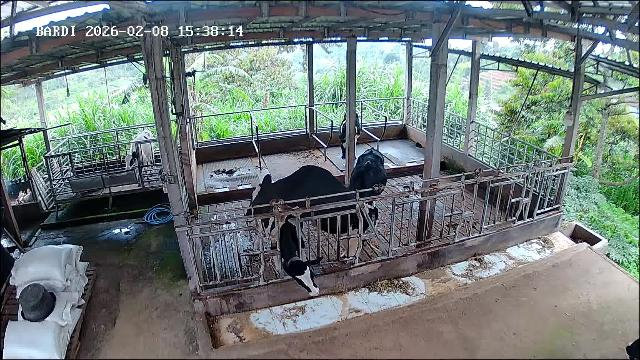mounting: (245, 164, 371, 258)
